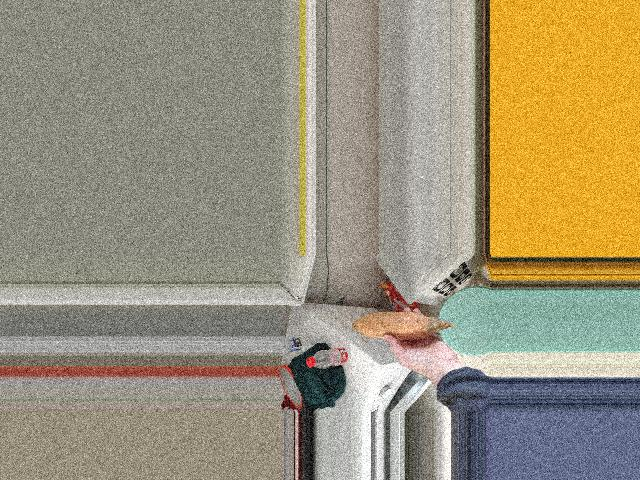sweet_potato: (365, 316, 439, 338)
